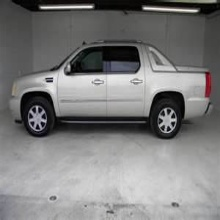no damage: (9, 39, 212, 138)
